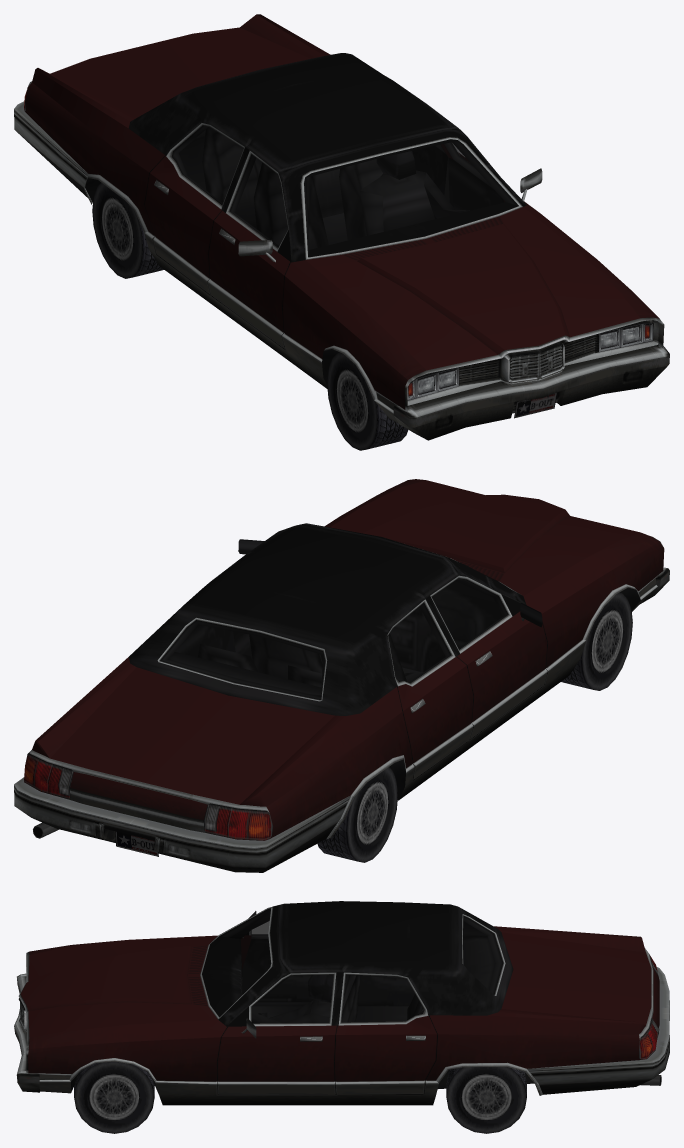
Rendered from sedan_2_burnout_3.glb.
The picture shows the model from 3 angles, top to bottom: view 1: azimuth 30°, elevation 25°; view 2: azimuth 150°, elevation 25°; view 3: azimuth 270°, elevation 25°; orthographic projection. The views are drawn at different scales.
Visible parts, largest first — view 1: Car19_Body_0000_0001, Car19_Body_0000_0000, Car19_Body_Part_0004_0000, Car19_Body_0000_0003, Car19_Body_Part_0005_0000, Car19_Body_Part_0002_0000, Car19_Body_Part_0001_0000, Car19_Wheel_0000_0000, Car19_Wheel_0002_0000, Car19_Body_Part_0001_0002, Car19_Body_Part_0000_0001, Car19_Body_Part_0003_0000 (+1 smaller); view 2: Car19_Body_0000_0001, Car19_Body_0000_0000, Car19_Body_Part_0005_0000, Car19_Body_Part_0004_0000, Car19_Body_0000_0003, Car19_Body_Part_0003_0000, Car19_Body_Part_0001_0000, Car19_Wheel_0002_0000, Car19_Wheel_0000_0000, Car19_Body_Part_0001_0002, Car19_Body_Part_0001_0001; view 3: Car19_Body_0000_0000, Car19_Body_0000_0001, Car19_Body_Part_0004_0000, Car19_Body_Part_0005_0000, Car19_Body_0000_0003, Car19_Body_Part_0000_0000, Car19_Wheel_0001_0000, Car19_Wheel_0003_0000, Car19_Body_Part_0003_0000, Car19_Body_Part_0000_0002, Car19_Body_Part_0001_0001, Car19_Body_Part_0002_0000 (+3 smaller).
Boxes of the visible parts, x1,y1,x2,y2 form: Car19_Body_0000_0001: [24, 53, 649, 396]; Car19_Body_0000_0000: [25, 14, 664, 423]; Car19_Body_Part_0004_0000: [306, 207, 639, 370]; Car19_Body_0000_0003: [172, 125, 518, 257]; Car19_Body_Part_0005_0000: [50, 27, 310, 117]; Car19_Body_Part_0002_0000: [393, 345, 669, 440]; Car19_Body_Part_0001_0000: [206, 150, 291, 350]; Car19_Wheel_0000_0000: [327, 352, 408, 450]; Car19_Wheel_0002_0000: [92, 183, 163, 278]; Car19_Body_Part_0001_0002: [230, 154, 287, 247]; Car19_Body_Part_0000_0001: [441, 142, 503, 210]; Car19_Body_Part_0003_0000: [14, 101, 92, 204]; Car19_Body_0000_0001: [24, 523, 640, 840]; Car19_Body_0000_0000: [29, 479, 664, 838]; Car19_Body_Part_0005_0000: [47, 667, 334, 830]; Car19_Body_Part_0004_0000: [330, 480, 639, 595]; Car19_Body_0000_0003: [160, 570, 507, 699]; Car19_Body_Part_0003_0000: [14, 777, 354, 872]; Car19_Body_Part_0001_0000: [430, 575, 548, 741]; Car19_Wheel_0002_0000: [318, 767, 397, 862]; Car19_Wheel_0000_0000: [561, 592, 632, 690]; Car19_Body_Part_0001_0002: [432, 578, 508, 649]; Car19_Body_Part_0001_0001: [425, 578, 520, 656]; Car19_Body_0000_0000: [18, 906, 660, 1105]; Car19_Body_0000_0001: [71, 901, 661, 1093]; Car19_Body_Part_0004_0000: [20, 935, 217, 1037]; Car19_Body_Part_0005_0000: [501, 932, 659, 1035]; Car19_Body_0000_0003: [202, 908, 503, 1022]; Car19_Body_Part_0000_0000: [216, 972, 338, 1095]; Car19_Wheel_0001_0000: [74, 1061, 154, 1133]; Car19_Wheel_0003_0000: [446, 1067, 526, 1133]; Car19_Body_Part_0003_0000: [525, 967, 669, 1095]; Car19_Body_Part_0000_0002: [251, 974, 333, 1023]; Car19_Body_Part_0001_0001: [242, 930, 314, 1002]; Car19_Body_Part_0002_0000: [14, 973, 39, 1092].
Size of the model in its own units: 0.0236 by 0.0146 by 0.0557.
3 materials, 2 textured.
